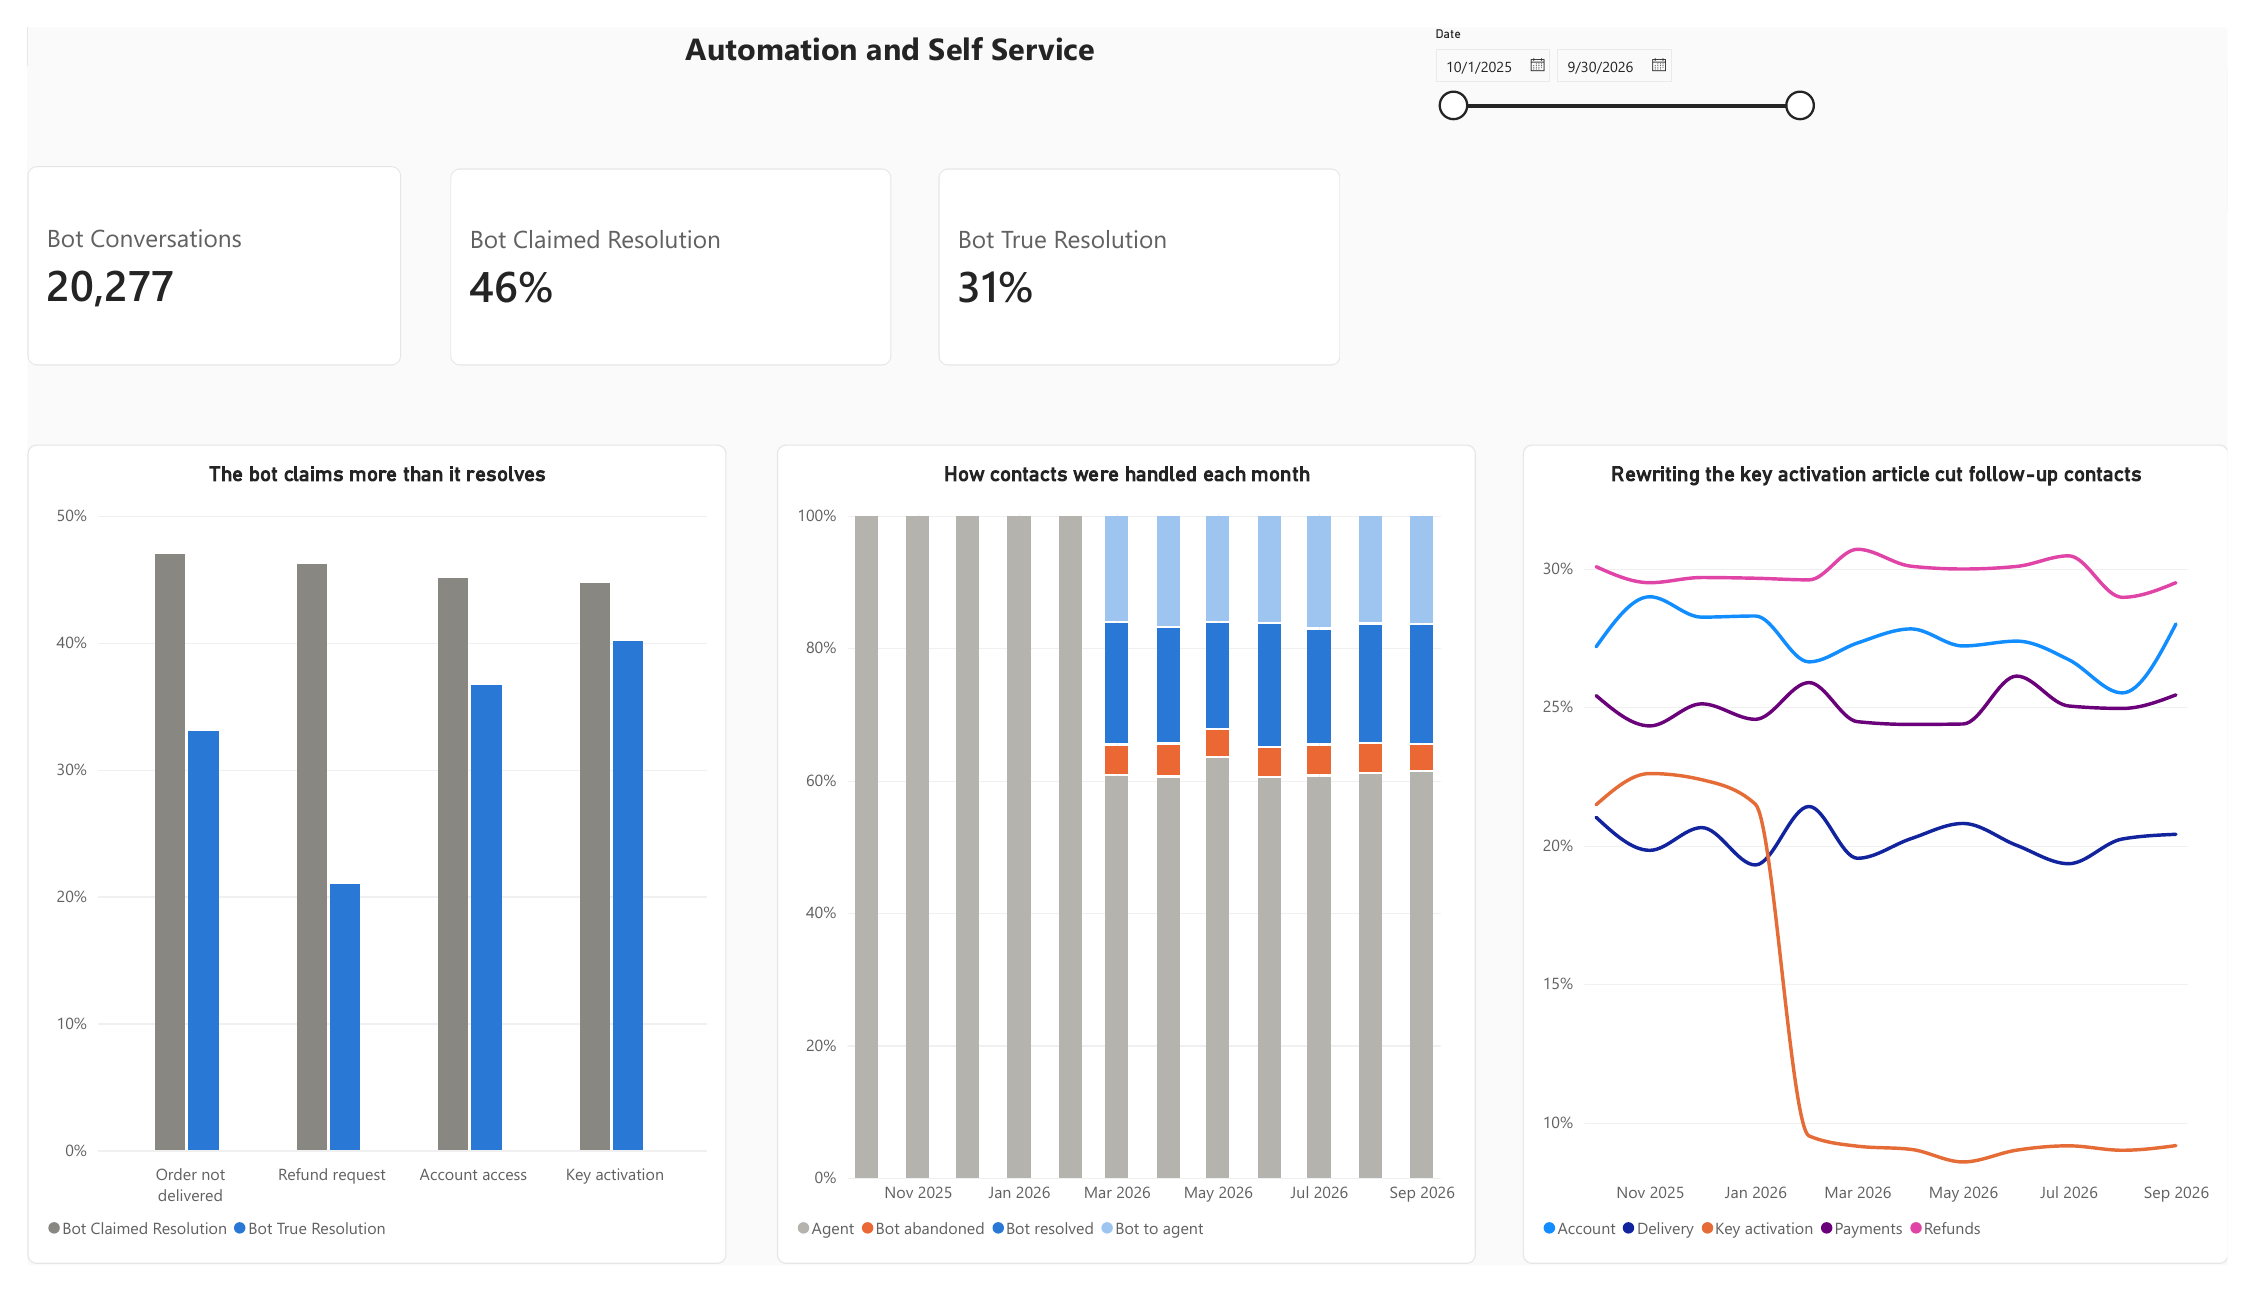

The dashboard page shown, as its layout file describes it:
{"tool":"powerbi","page":{"name":"Automation","canvas":[1920,1080],"ordinal":2},"visuals":[{"type":"textbox","box":[257.7,0,990.2,74],"z":0},{"type":"slicer","fields":{"Values":["Dates.Date"]},"box":[1221.1,0,342.1,115.8],"z":1000},{"type":"cardVisual","fields":{"Data":["_measures (2).Bot Conversations"]},"box":[0,120.5,325.6,174.4],"z":2000},{"type":"cardVisual","fields":{"Data":["_measures (2).Bot Claimed Resolution"]},"box":[369.2,123.1,384.6,171.8],"z":3000},{"type":"cardVisual","fields":{"Data":["_measures (2).Bot True Resolution"]},"box":[794.9,123.1,351.3,171.8],"z":4000},{"type":"clusteredColumnChart","title":"The bot claims more than it resolves","fields":{"Category":["Contacts.contact_reason"],"Y":["_measures (2).Bot Claimed Resolution","_measures (2).Bot True Resolution"]},"box":[0,364.1,610.3,715.4],"z":5000},{"type":"hundredPercentStackedColumnChart","title":"How contacts were handled each month","fields":{"Category":["Dates.Month Start"],"Series":["Contacts.path"],"Y":["_measures (2).Contacts"]},"box":[653.8,364.1,610.3,715.4],"z":6000},{"type":"lineChart","title":"Rewriting the key activation article cut follow-up contacts","fields":{"Category":["Dates.Month Start"],"Series":["HelpCentre.article_topic"],"Y":["_measures (2).Help Contact Rate"]},"box":[1305.1,364.1,615.4,715.4],"z":7000}]}

Visuals, with their boxes in screenshot pixels (x1, y1, x2, y2), scaled from the page's 1920x1080 canvas onto the 2255x1293 screenshot:
textbox: rect(303, 0, 1466, 89)
slicer - Dates.Date: rect(1434, 0, 1836, 139)
cardVisual - _measures (2).Bot Conversations: rect(0, 144, 382, 353)
cardVisual - _measures (2).Bot Claimed Resolution: rect(434, 147, 885, 353)
cardVisual - _measures (2).Bot True Resolution: rect(934, 147, 1346, 353)
"The bot claims more than it resolves" clusteredColumnChart: rect(0, 436, 717, 1292)
"How contacts were handled each month" hundredPercentStackedColumnChart: rect(768, 436, 1485, 1292)
"Rewriting the key activation article cut follow-up contacts" lineChart: rect(1533, 436, 2254, 1292)
